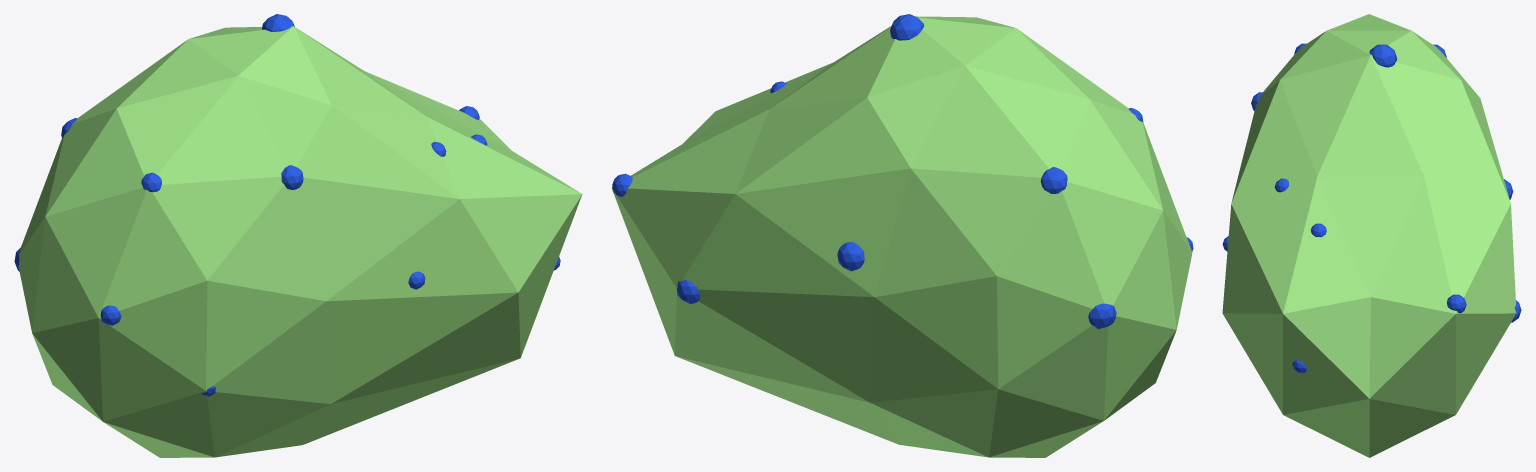
File: berry bush 1.fbx
3 views of the same model, side by side, from view 1: azimuth 30°, elevation 25°; view 2: azimuth 150°, elevation 25°; view 3: azimuth 270°, elevation 25° (orthographic). The views are drawn at different scales.
Parts seen in each view (by area): view 1: Bush w berries.001; view 2: Bush w berries.001; view 3: Bush w berries.001.
Boxes of the visible parts, x1,y1,x2,y2 form: Bush w berries.001: (14,14,582,457); Bush w berries.001: (611,14,1193,457); Bush w berries.001: (1222,14,1521,457).
Bounding box in the file's own units: 281 × 212 × 166.
